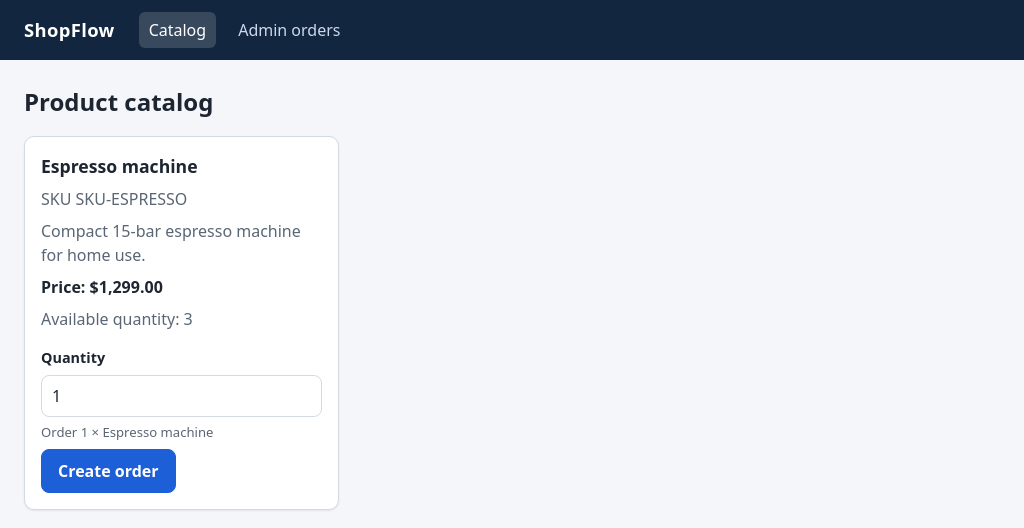
Test: CatalogPage › blocks order creation while the quantity is not a positive whole number
The image size is (1024, 528).
Expected: the heading "Espresso machine" is shown, [41,154,198,178]
Expected: the button "Create order" is enabled, [41,449,176,493]
Replace the text in the number field labelled "Quantity" with "0": (181, 396) [41,375,322,417]
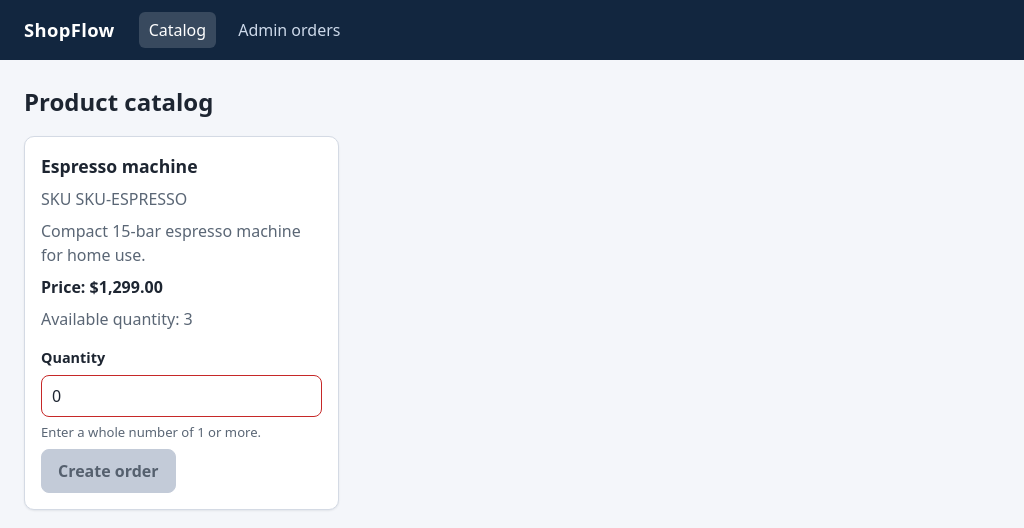
Now the text "Enter a whole number of 1 or more." is shown, box [41,423,261,441]
Now the button "Create order" is disabled, box [41,449,176,493]
Clear the number field labelled "Quantity": (181, 396) [41,375,322,417]
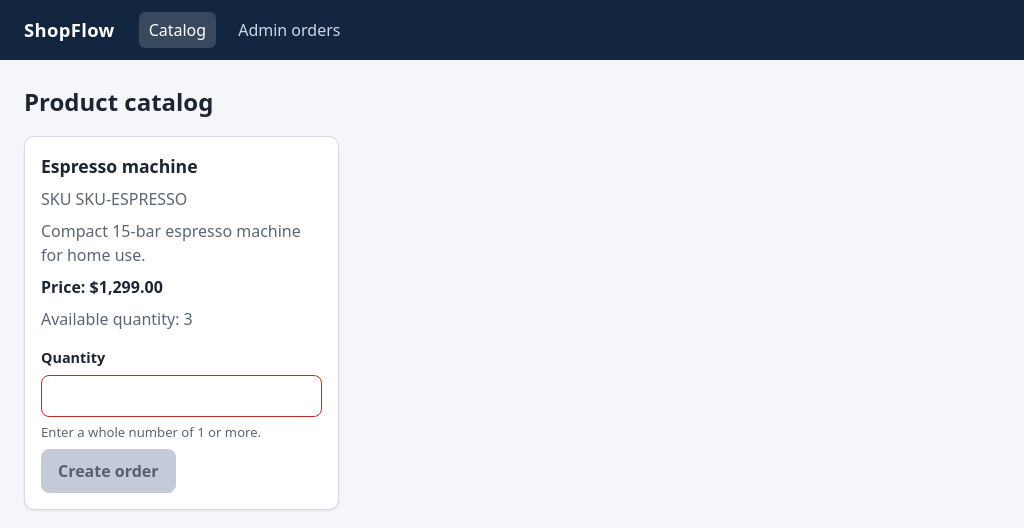
Now the button "Create order" is disabled, box [41,449,176,493]
In the number field labelled "Quantity": (181, 396) [41,375,322,417], type "3"
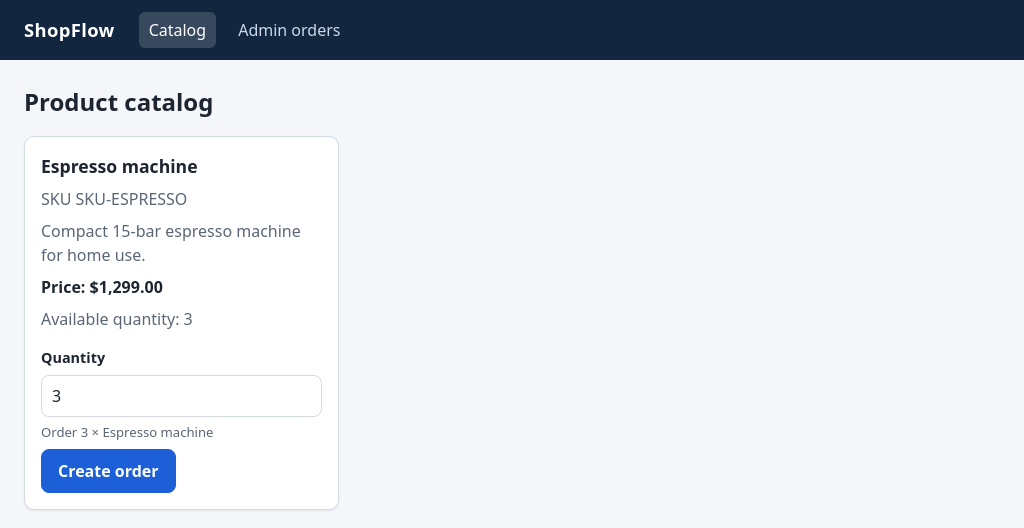
Now the button "Create order" is enabled, box [41,449,176,493]
